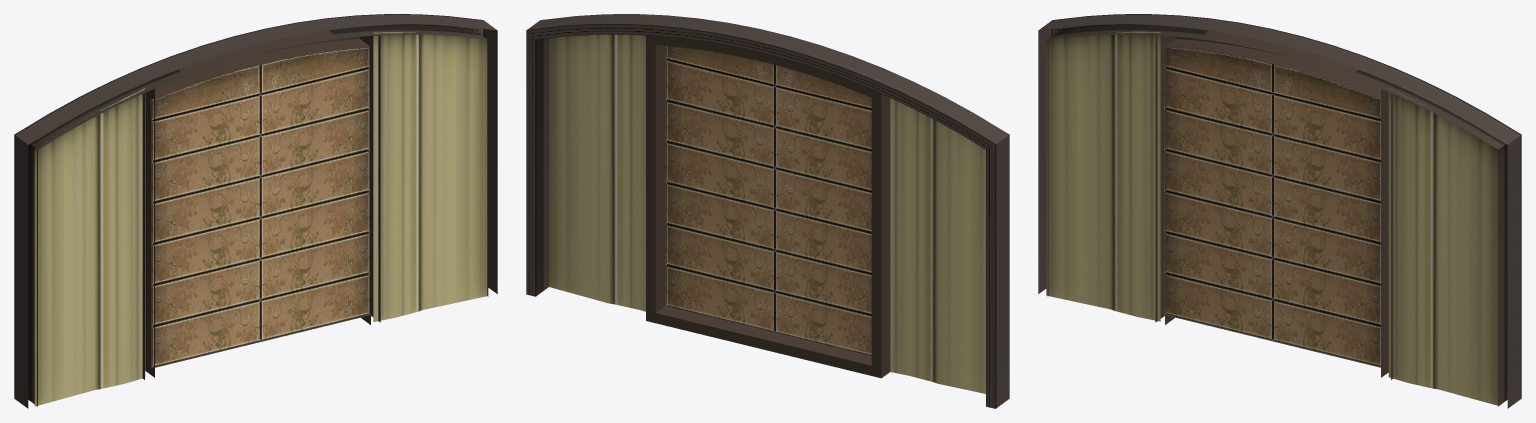
Rendered from Room01_WallA.FBX.
3 renders of one model, left to right at view 1: azimuth 30°, elevation 25°; view 2: azimuth 150°, elevation 25°; view 3: azimuth 330°, elevation 25°, orthographic.
Visible parts, largest first — view 1: Room01_Wall; view 2: Room01_Wall; view 3: Room01_Wall.
Part boxes in pixels (box(x1,y1,x2,y2)): Room01_Wall: box(14, 14, 497, 408); Room01_Wall: box(526, 14, 1009, 408); Room01_Wall: box(1038, 14, 1521, 408).
Size of the model in its own units: 822 by 43 by 517.
